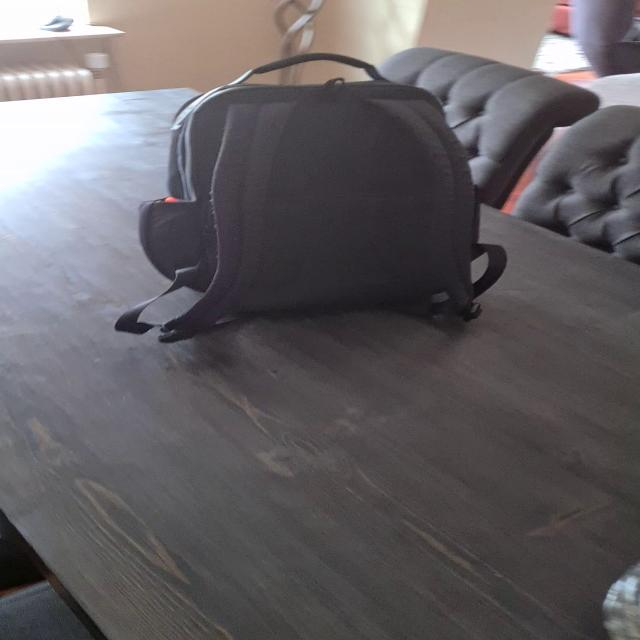backpack: (114, 39, 525, 339)
